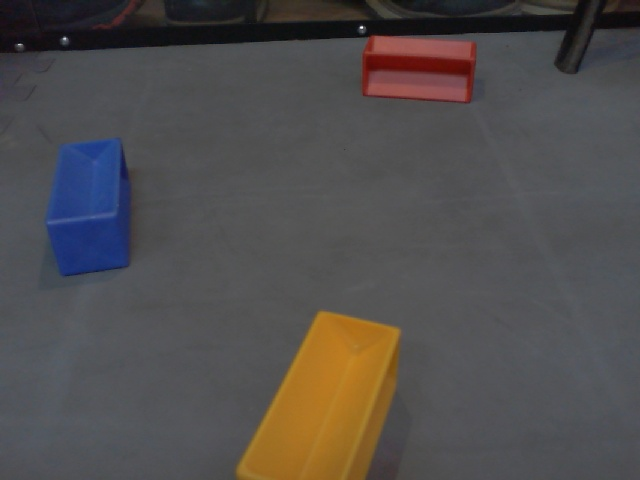BlueSample: (47, 136, 133, 276)
RedSample: (360, 34, 477, 108)
YellowSample: (229, 306, 407, 480)
